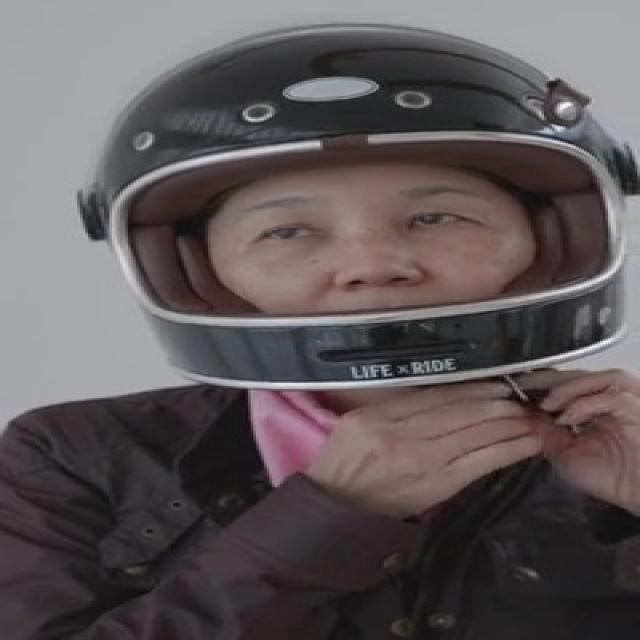Helmet_Wearer: (82, 18, 640, 383)
Person: (12, 19, 640, 639)
